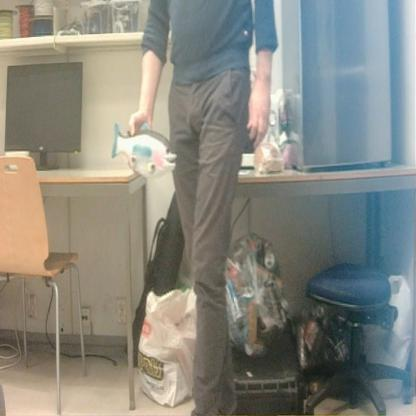rubberfish: (109, 117, 179, 183)
